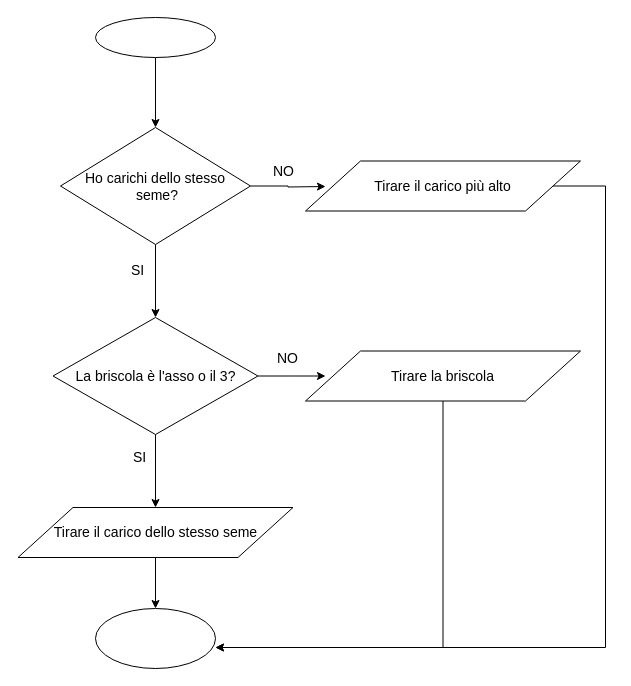
The diagram is 631 pixels wide and 686 high, and some of its shapes have lost their labels. The shapes that lost their labels are listed below. From the top down, each one's centre as x and y in pixels, then its label:
At pixel 155 37: "INIZIO".
At pixel 155 638: "FINE".
